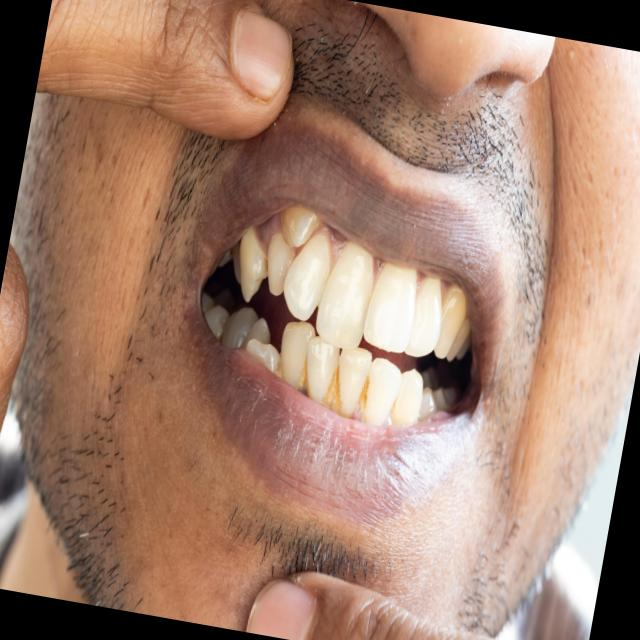Tooth: (316, 241, 373, 349), (363, 263, 416, 352), (283, 233, 330, 321), (404, 276, 441, 356), (330, 346, 371, 418), (360, 357, 401, 425), (280, 321, 315, 396), (305, 336, 339, 409), (433, 285, 466, 358), (239, 228, 268, 302), (267, 233, 295, 295), (391, 368, 422, 424), (280, 207, 322, 248)
